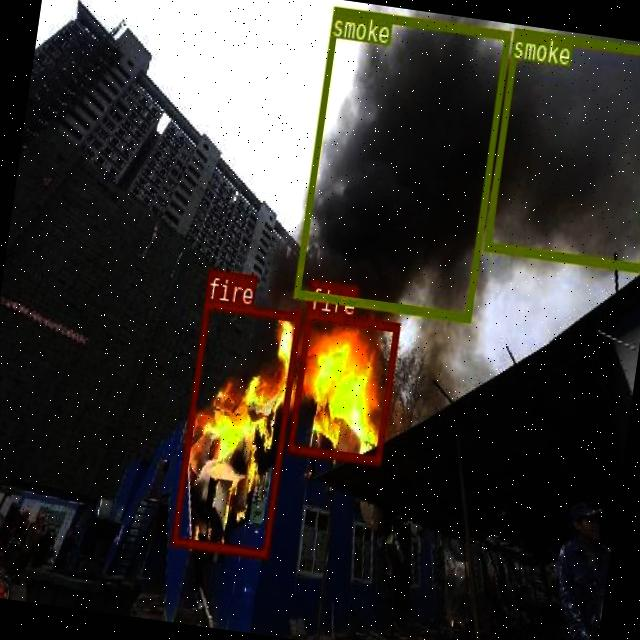fire: (170, 298, 300, 557), (287, 310, 399, 464)
smoke: (293, 6, 510, 322), (483, 28, 640, 272)
